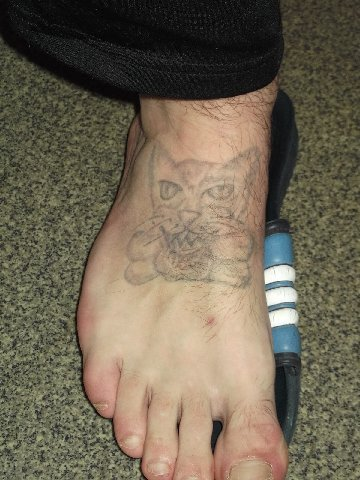tatu8_kot: (126, 144, 262, 294)
